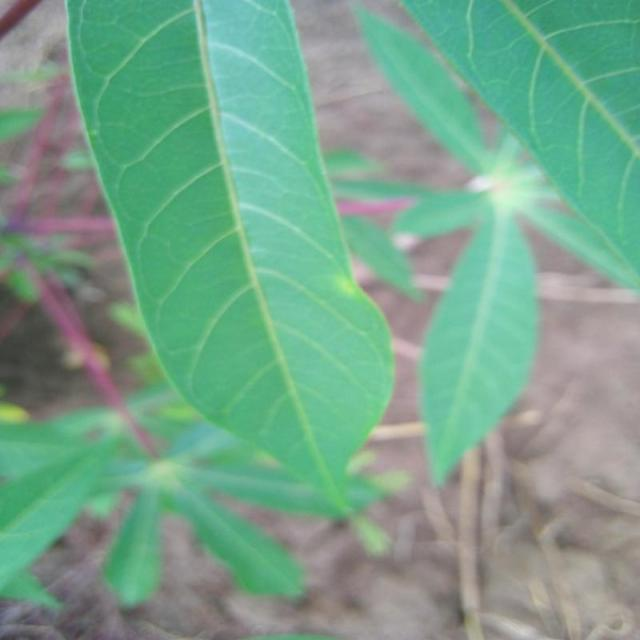cassava leaf: (63, 0, 396, 519), (396, 0, 639, 292)
